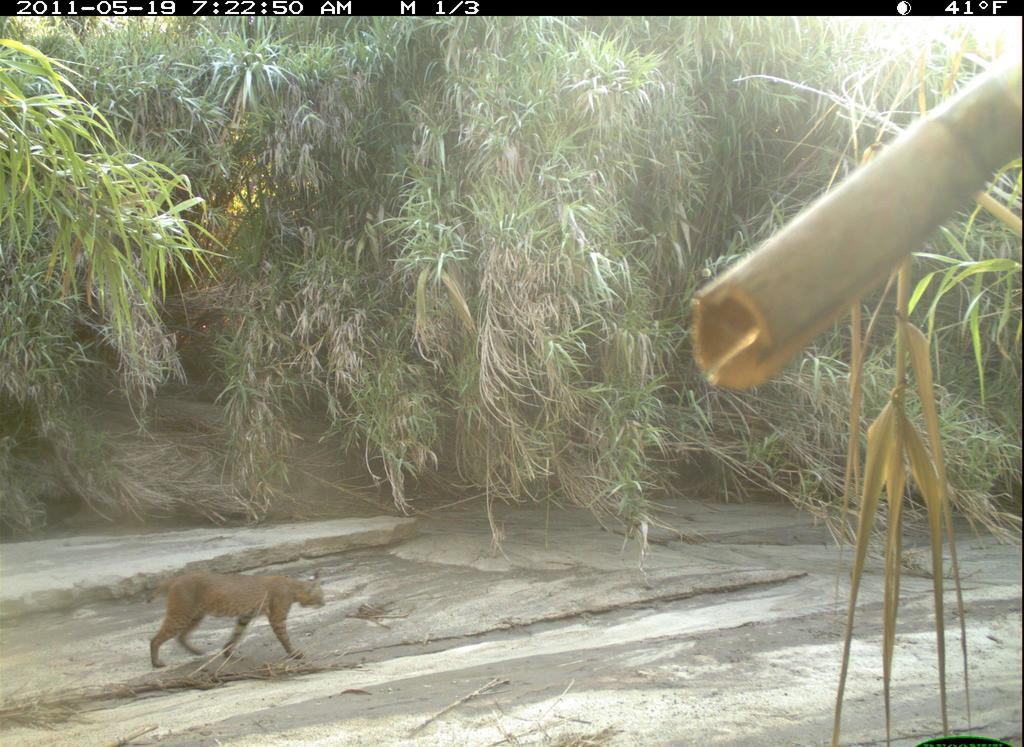bobcat: (145, 561, 335, 674)
